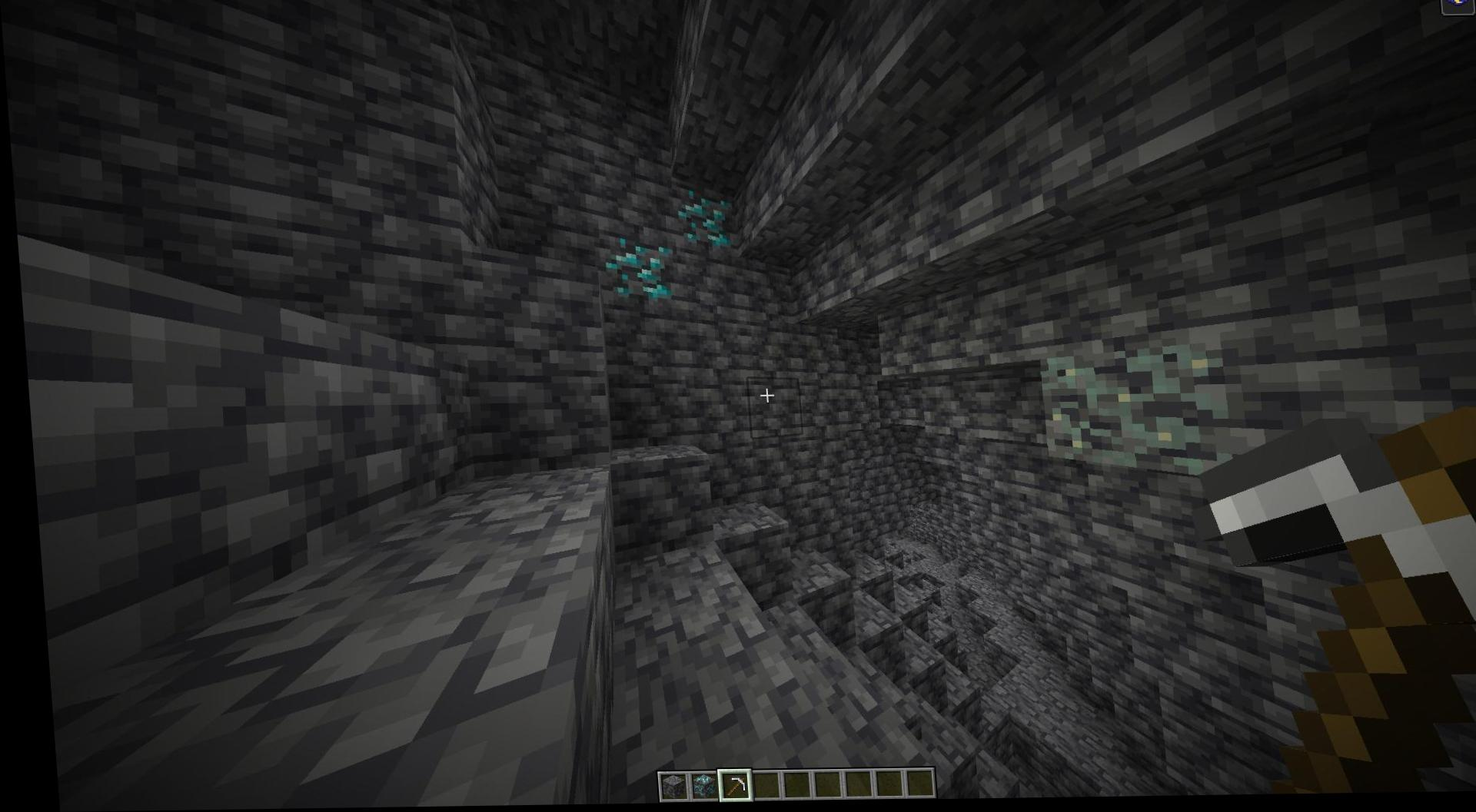diamond ore: (598, 232, 674, 304), (671, 186, 734, 255)
